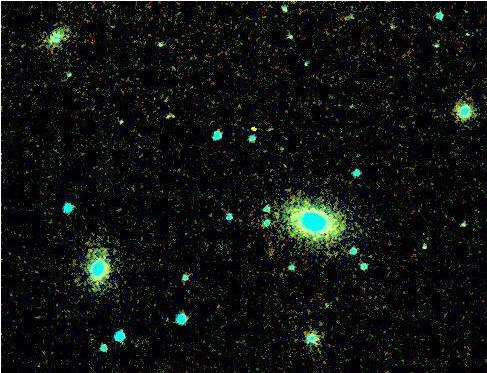star: (234, 109, 264, 139)
